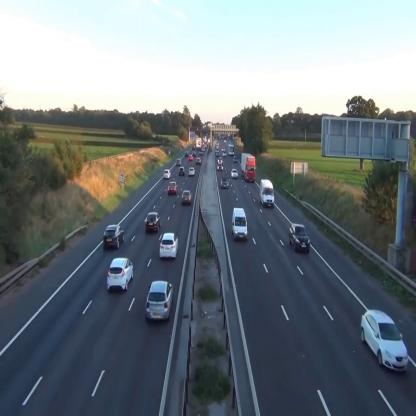car: (360, 310, 409, 374), (145, 280, 173, 323), (106, 258, 135, 291), (288, 223, 310, 254), (104, 225, 124, 250), (160, 232, 178, 259), (145, 213, 161, 232), (182, 191, 192, 205), (168, 182, 178, 194), (220, 177, 229, 189), (188, 166, 196, 175), (163, 170, 171, 178), (179, 166, 185, 176), (232, 168, 238, 178), (218, 163, 223, 171), (176, 158, 181, 164), (218, 156, 223, 162), (196, 158, 200, 164), (189, 155, 193, 160), (185, 152, 189, 156)
lorry: (232, 207, 248, 240), (260, 179, 275, 208), (242, 152, 256, 182)
